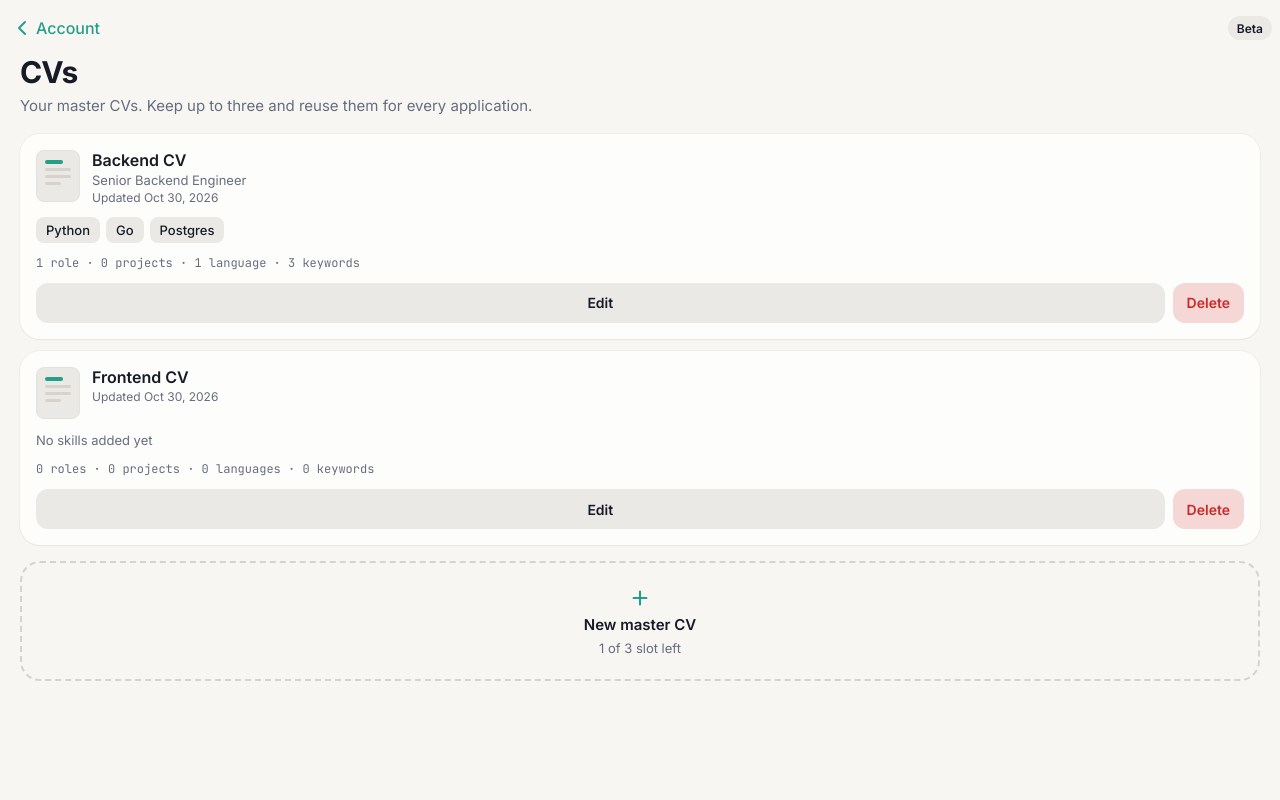
it: CVs below md › keeps the sheet when the delete fails (today's toast), and Cancel closes it
Expected: the heading "Backend CV" is shown, x1=92 y1=150 x2=186 y2=170
What coordinates should you click on to do the following:
click the button with aria-label "Delete Backend CV"
I would click on:
 (1208, 302)
Its box is x1=1173 y1=280 x2=1244 y2=324.
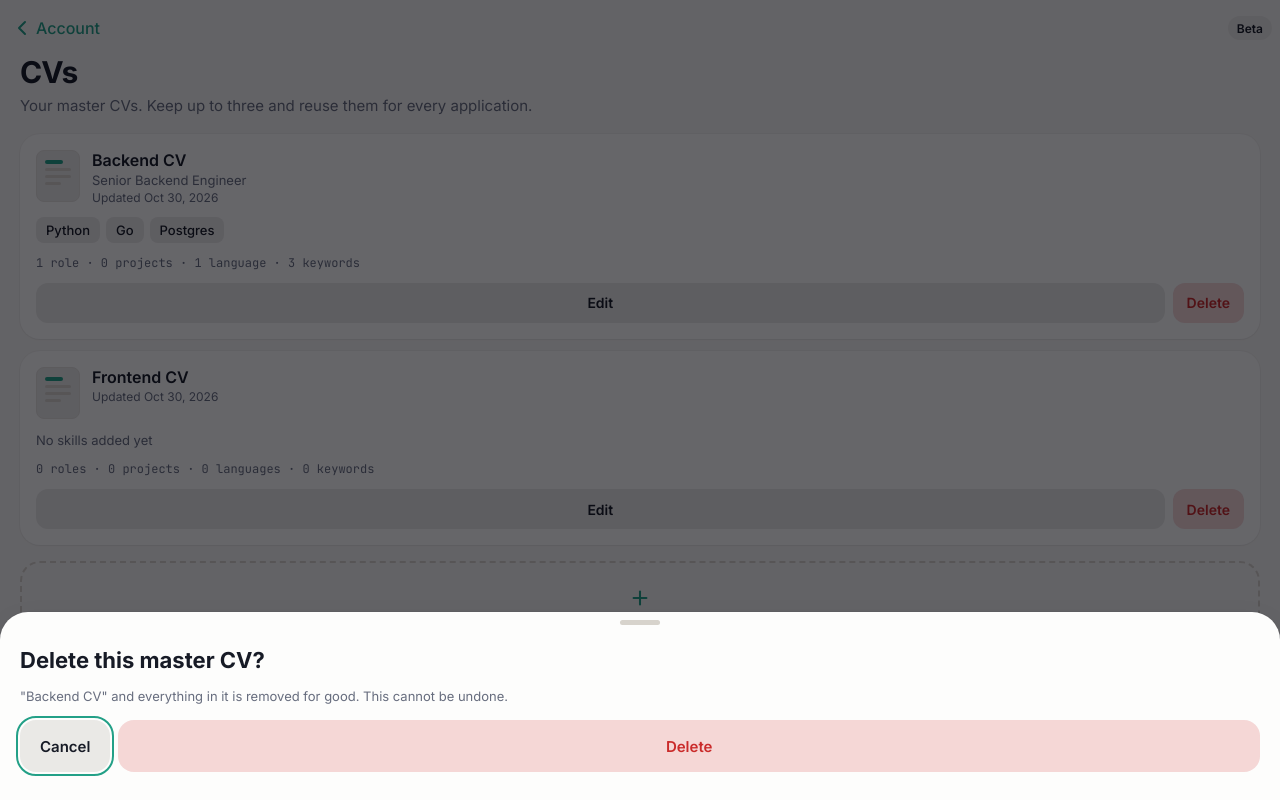
What coordinates should you click on to do the following:
click the button "Delete"
I would click on:
 (689, 746)
Its box is x1=118 y1=720 x2=1260 y2=772.
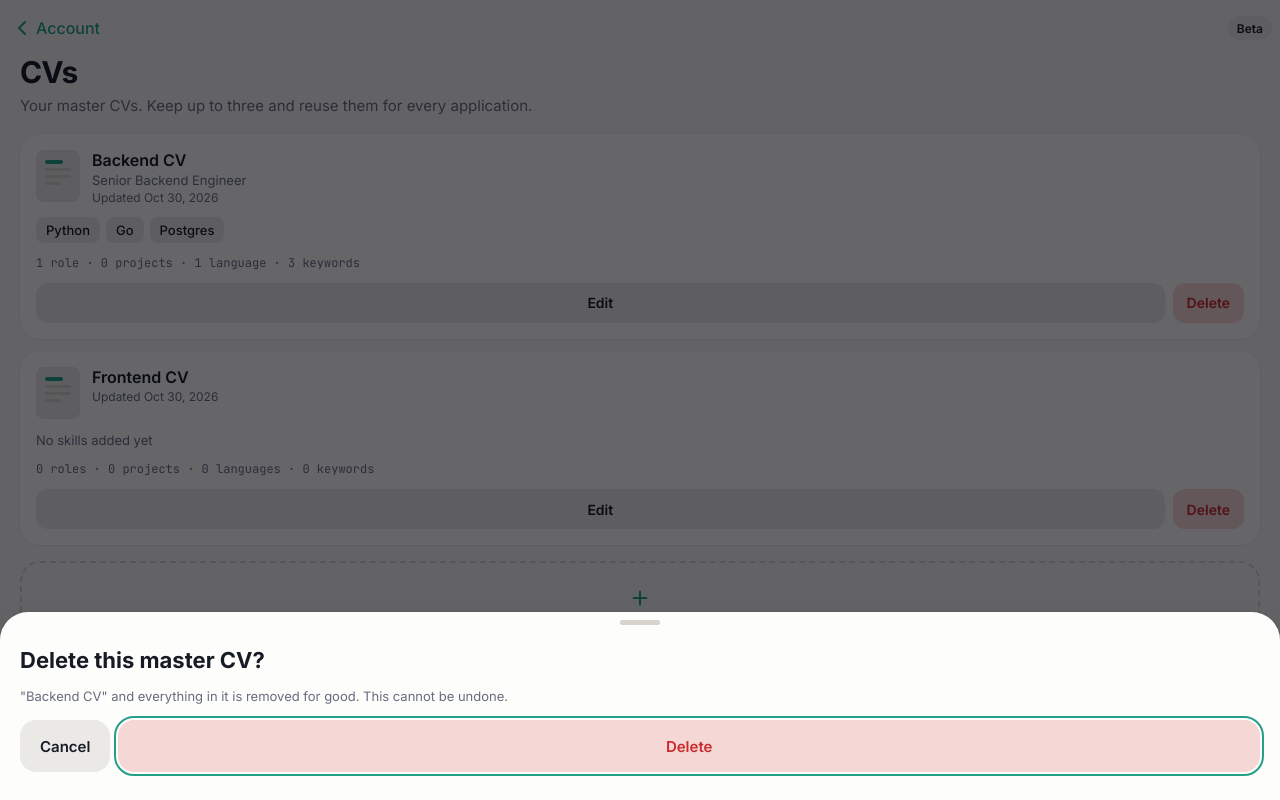
Result: the dialog is shown at x1=0 y1=612 x2=1279 y2=799
What coordinates should you click on to do the following:
click the button "Cancel"
I would click on:
 (65, 746)
Its box is x1=20 y1=720 x2=110 y2=772.
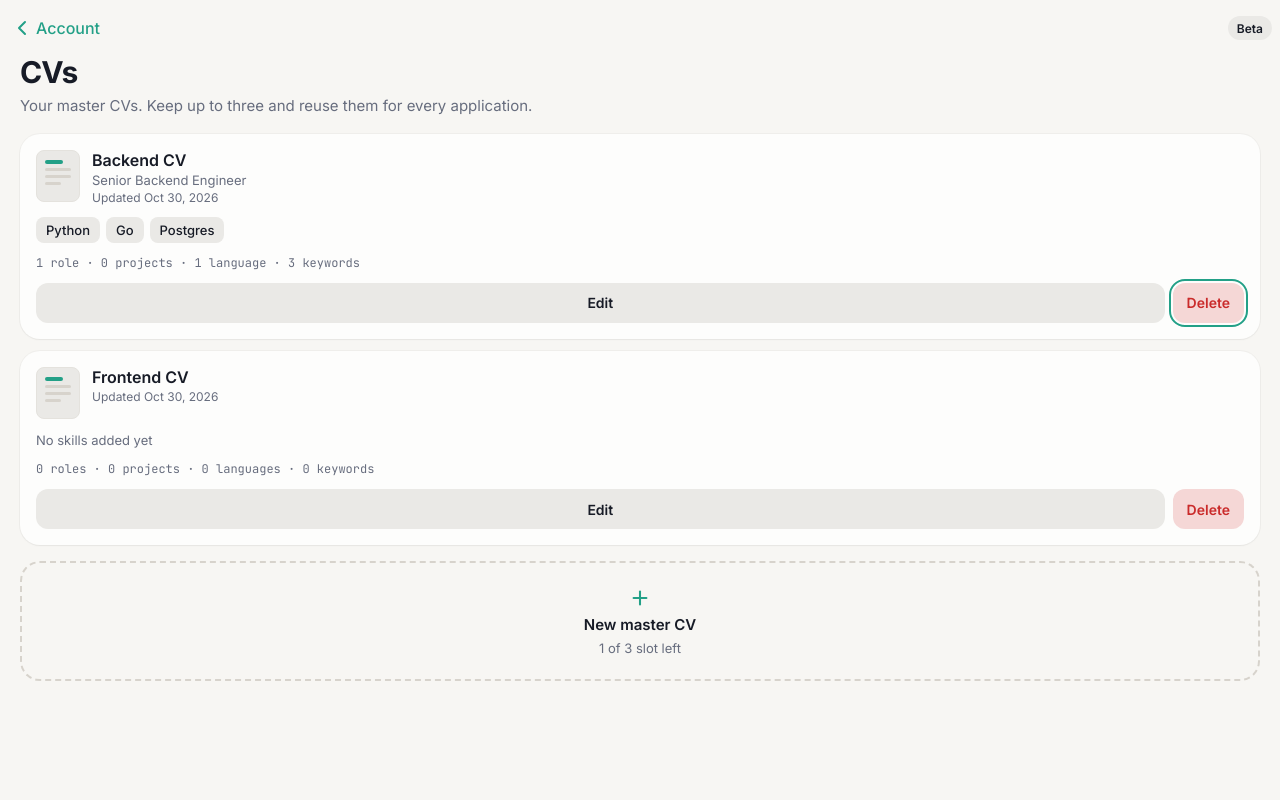
Result: the dialog is gone
